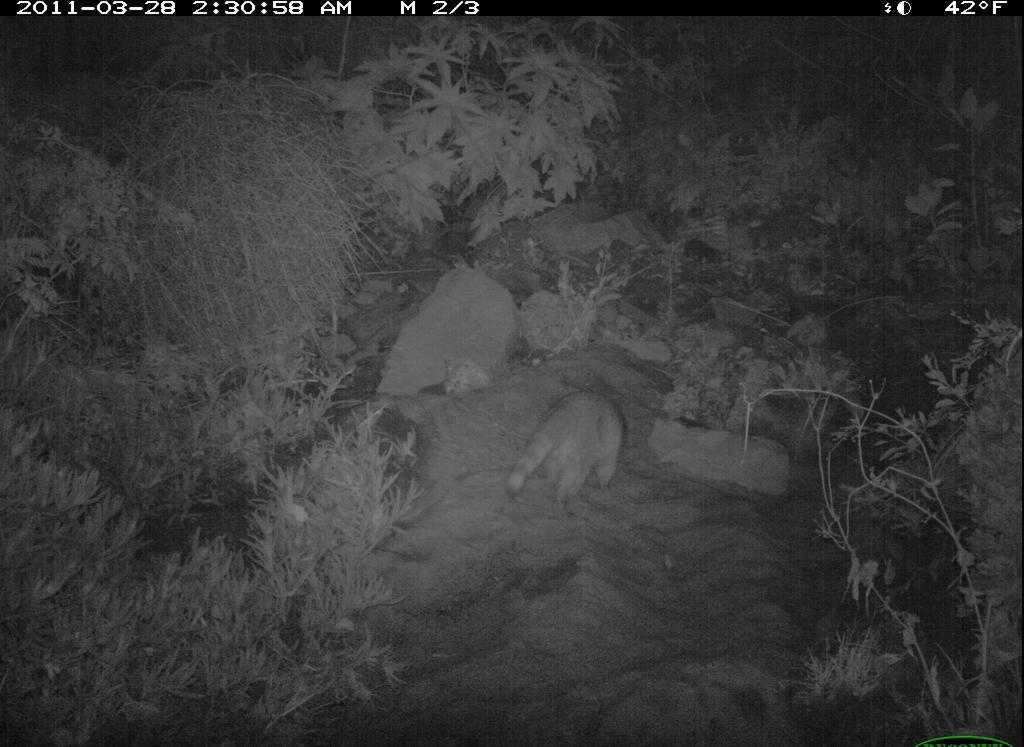raccoon: (515, 385, 632, 516)
